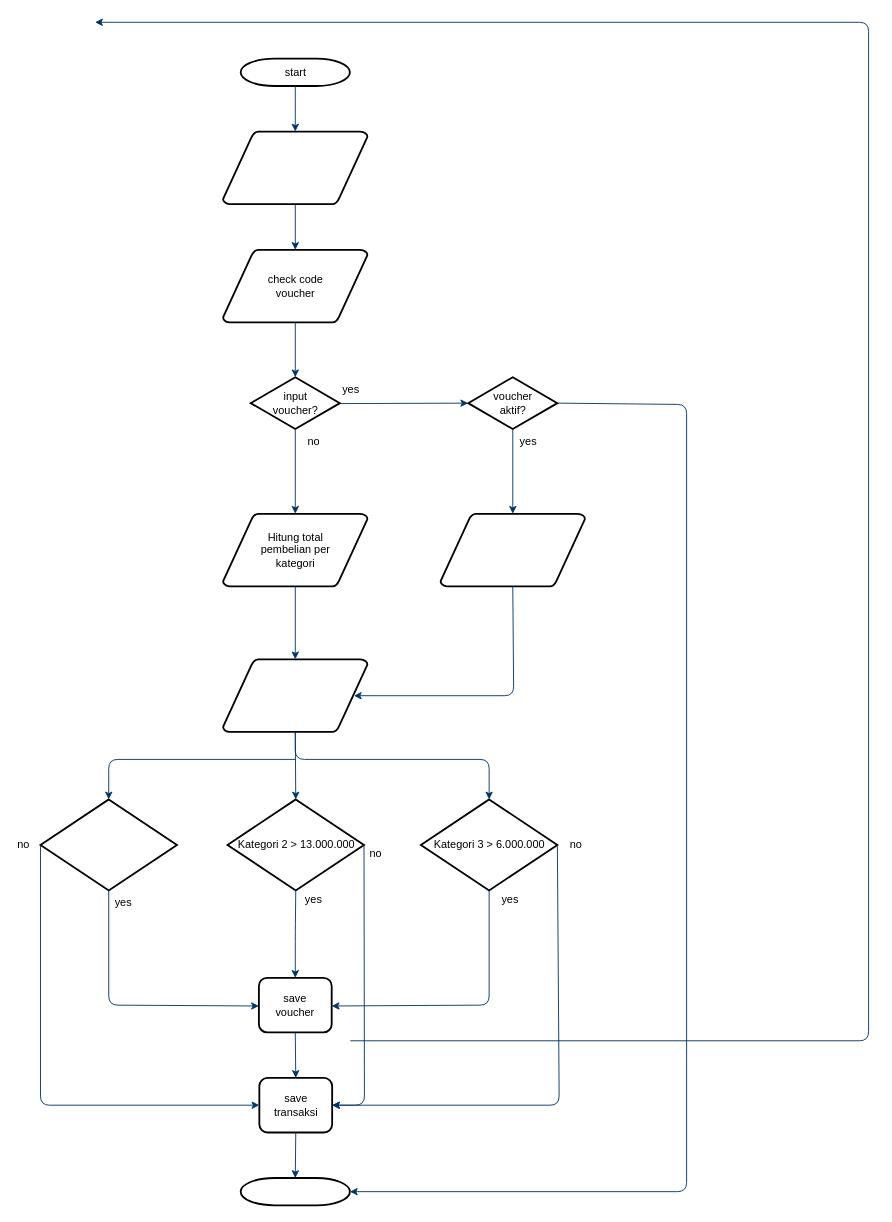
This 892x1222 diagram has some shape labels left out. The shapes that lost their labels are listed below. From the top down, each one's centre as x and y in pixels, then its label:
At pixel 295 167: "input data transaksi".
At pixel 512 549: "Potong dan Hitung total pembelian per kategori".
At pixel 295 695: "Check Total Pembelian".
At pixel 108 844: "Kategori 1 > 25.000.000".
At pixel 294 1191: "end".
